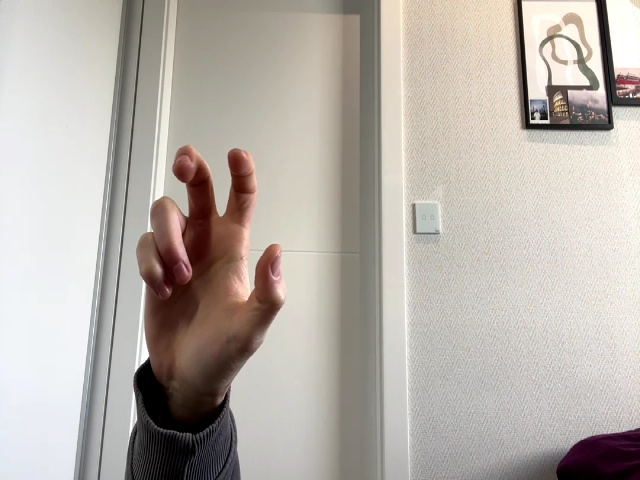CH: (137, 146, 286, 388)
